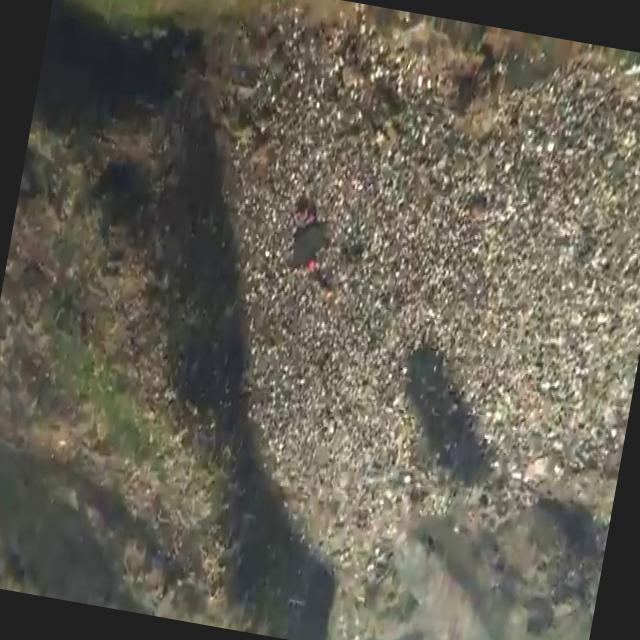Cakil Baligi: (369, 517, 522, 640)
